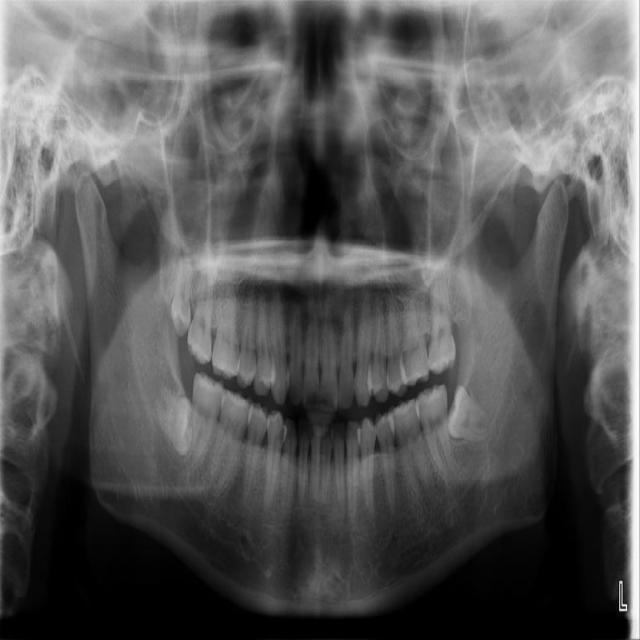impacted tooth: (153, 377, 194, 455), (448, 384, 496, 438), (170, 249, 192, 333)
